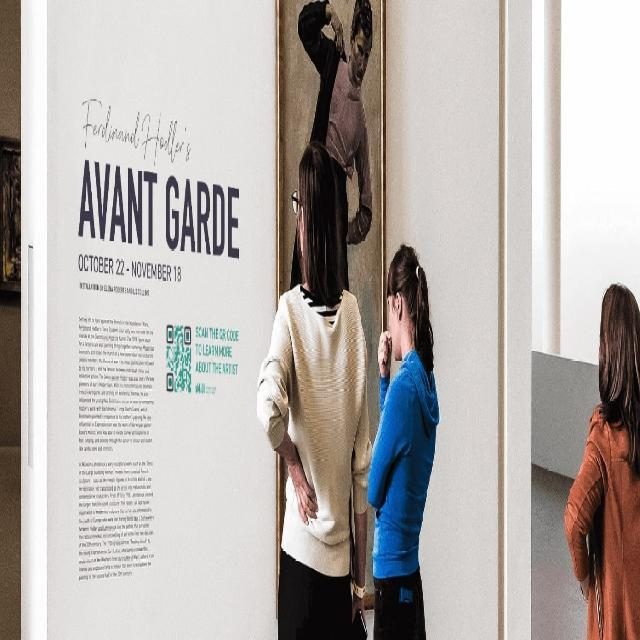qr_code: (166, 325, 191, 392)
